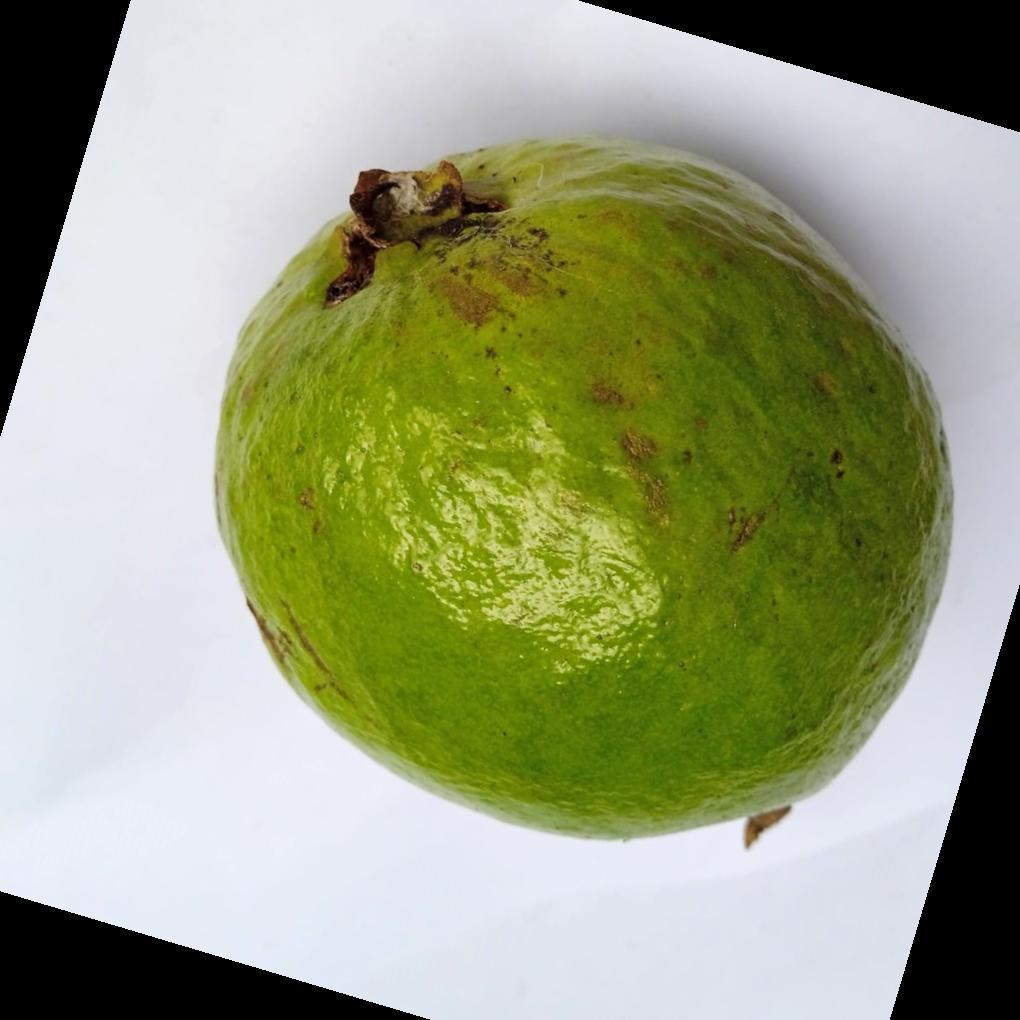FreshGuava: (211, 137, 955, 846)
